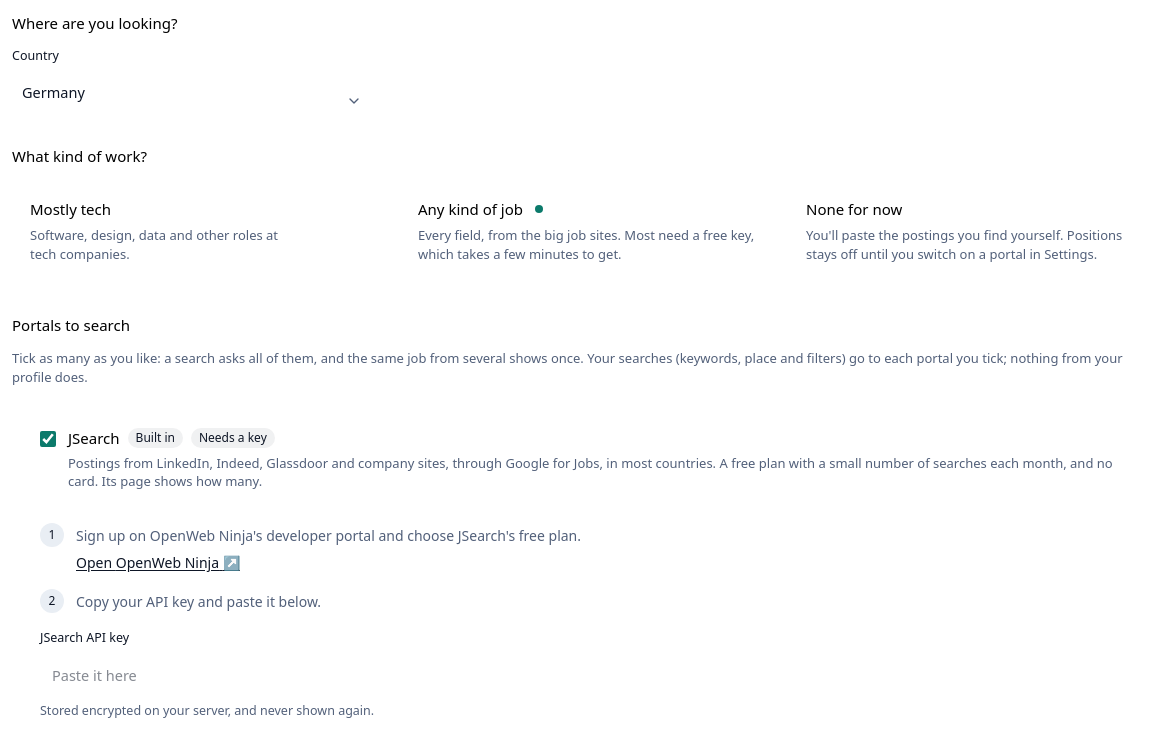
Test: the setup guide's job search step (E22-9) › switches every portal off for None for now
The image size is (1176, 732).
What coordinates should you click on to do the following:
click the radio button labelled "None for now"
I would click on:
 (976, 231)
Its box is [788,180,1164,282].
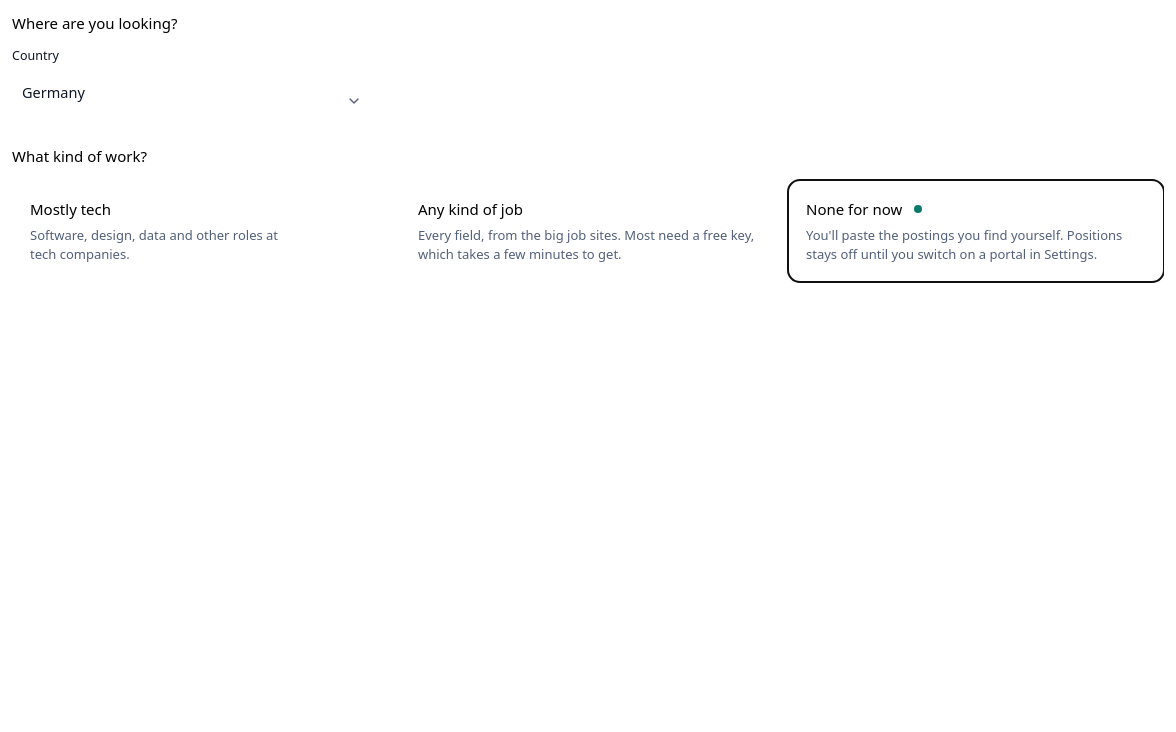
Check: the checkbox is gone
